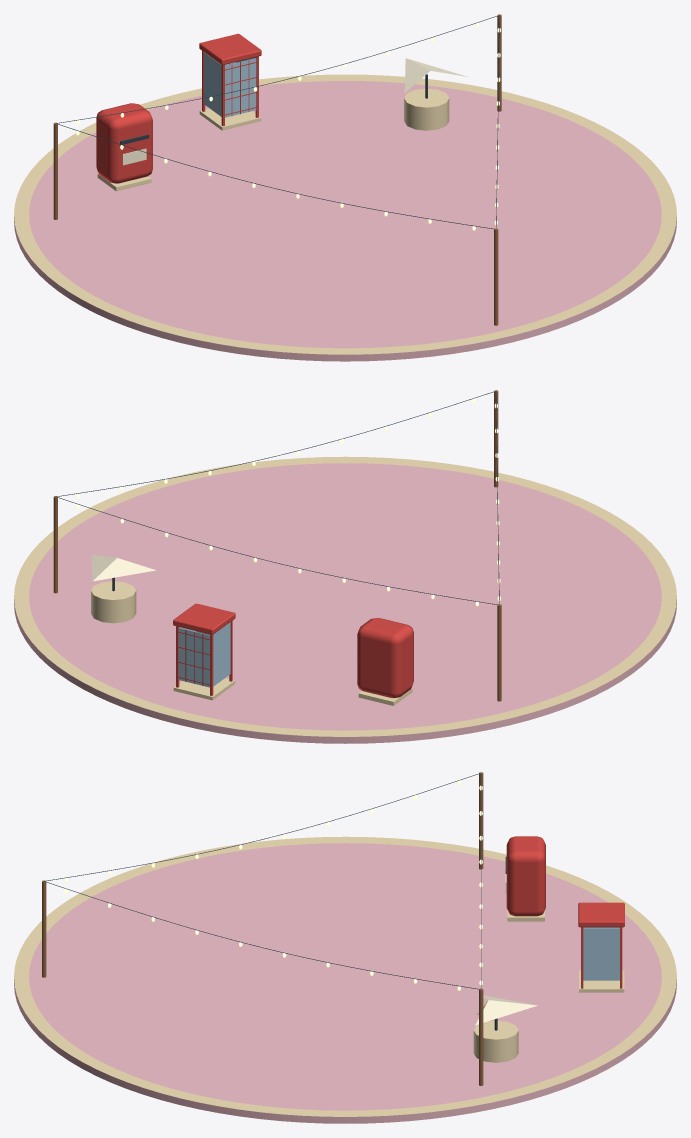
File: contact-plaza.glb
The picture shows the model from 3 angles, top to bottom: view 1: azimuth 30°, elevation 25°; view 2: azimuth 150°, elevation 25°; view 3: azimuth 270°, elevation 25°; orthographic projection.
Parts seen in each view (by area): view 1: Paving, PavingBorder, MailboxBody, Pedestal, GlassPanel, Roof, SideGlass, Floor; view 2: Paving, PavingBorder, MailboxBody, Pedestal, GlassPanel, Roof, SideGlass, Floor, LeftWing; view 3: Paving, PavingBorder, MailboxBody, SideGlass, Pedestal, Roof, RightWing, Floor.
Part boxes in pixels (bbox=[...]): Paving: bbox=[14, 81, 676, 361]; PavingBorder: bbox=[14, 74, 676, 354]; MailboxBody: bbox=[96, 103, 152, 183]; Pedestal: bbox=[404, 88, 449, 130]; GlassPanel: bbox=[225, 58, 256, 117]; Roof: bbox=[199, 33, 261, 64]; SideGlass: bbox=[204, 52, 221, 116]; Floor: bbox=[199, 108, 261, 130]; Paving: bbox=[14, 463, 676, 743]; PavingBorder: bbox=[14, 456, 676, 736]; MailboxBody: bbox=[357, 618, 413, 698]; Pedestal: bbox=[91, 581, 136, 623]; GlassPanel: bbox=[178, 628, 209, 687]; Roof: bbox=[173, 603, 235, 634]; SideGlass: bbox=[213, 622, 230, 686]; Floor: bbox=[173, 678, 235, 700]; LeftWing: bbox=[93, 558, 155, 581]; Paving: bbox=[14, 843, 676, 1123]; PavingBorder: bbox=[14, 836, 676, 1116]; MailboxBody: bbox=[506, 836, 545, 916]; SideGlass: bbox=[583, 928, 619, 980]; Pedestal: bbox=[473, 1020, 518, 1062]; Roof: bbox=[578, 902, 624, 927]; RightWing: bbox=[475, 1000, 537, 1025]; Floor: bbox=[579, 970, 624, 992].
Bounding box in the file's own units: 44 × 7.52 × 44.
